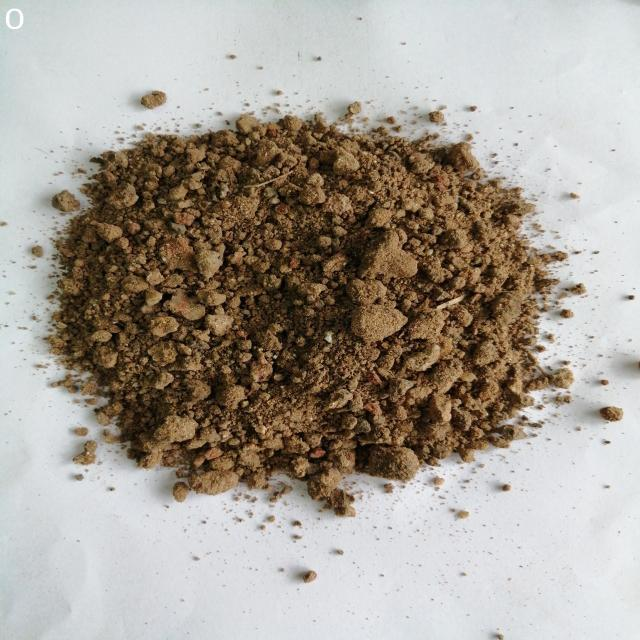soil: (131, 158, 507, 434)
